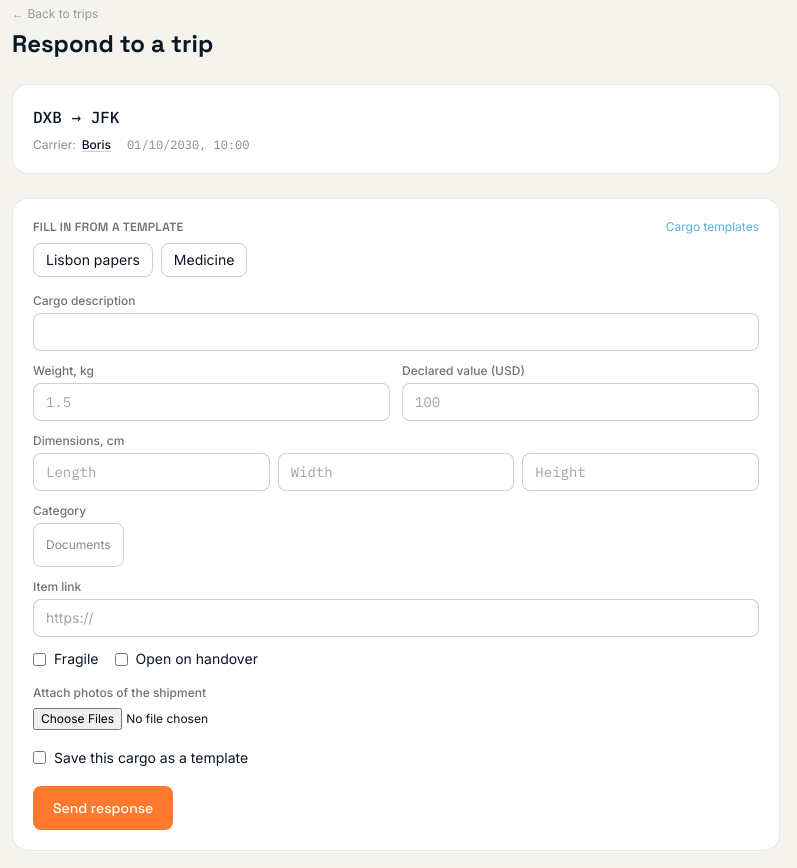
Test: RespondPage › fills the form from a template
The image size is (797, 868).
Click the button "Lisbon papers" at (93, 260), box [33,243,153,277]
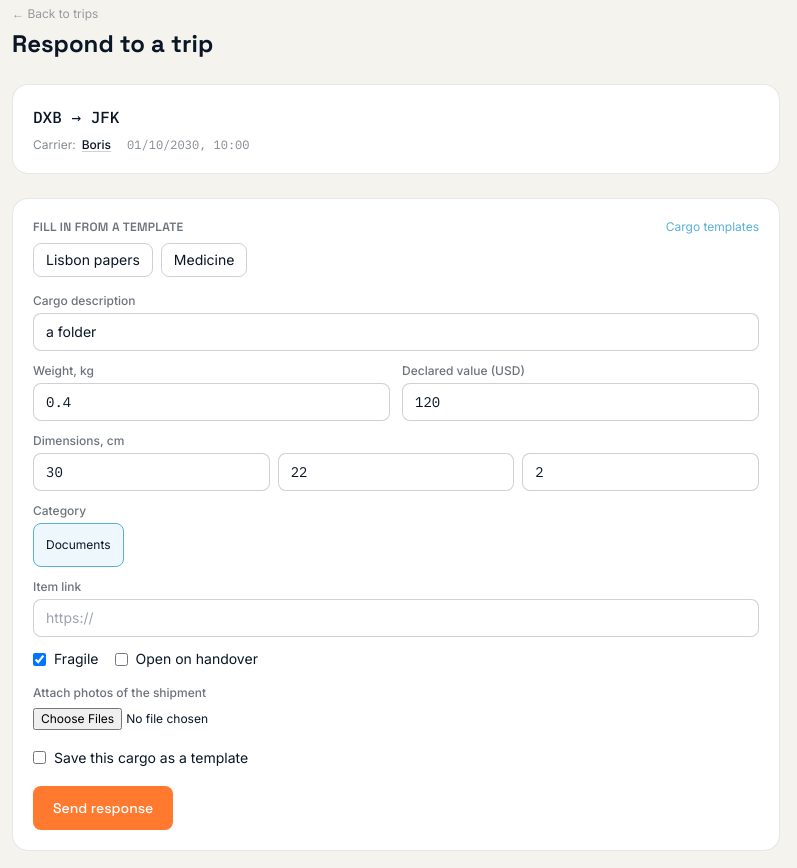
expect the field labelled "Cargo description" holds "a folder": met, box [33,313,759,351]
expect the number field labelled "Declared value (USD)" holds "120": met, box [402,383,759,421]
expect the number field labelled "Weight, kg" holds "0.4": met, box [33,383,390,421]
